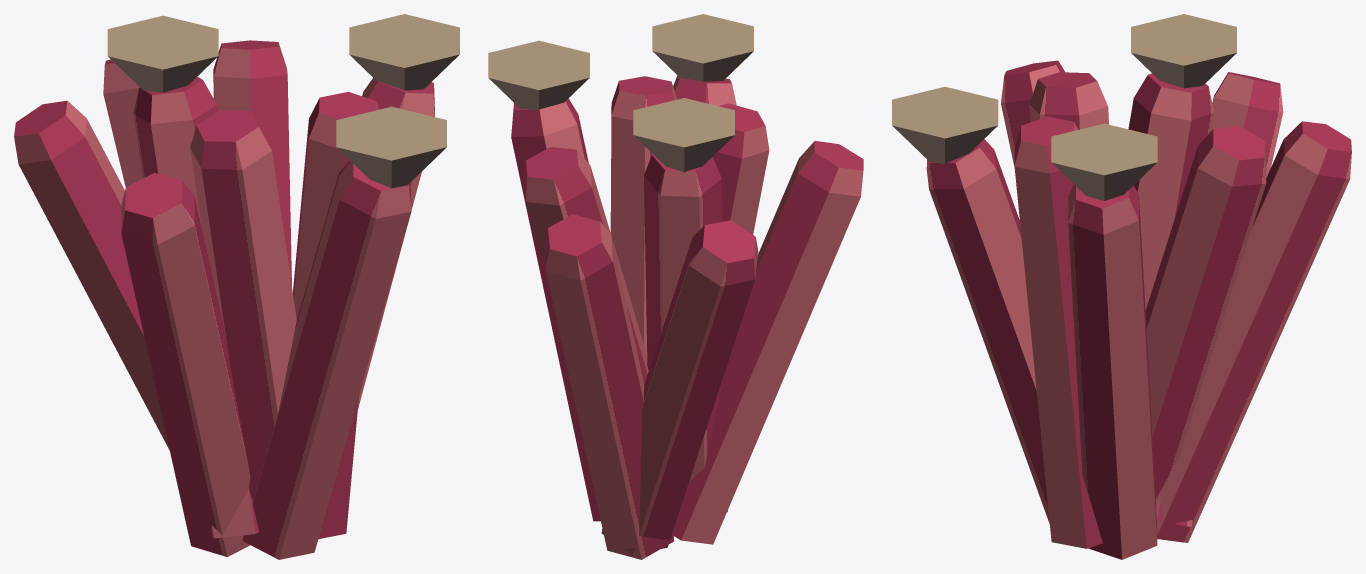
File: pink_cucumber.gltf
3 views of the same model, side by side, from view 1: azimuth 30°, elevation 25°; view 2: azimuth 150°, elevation 25°; view 3: azimuth 270°, elevation 25° (orthographic). The views are drawn at different scales.
Parts seen in each view (by area): view 1: cylinder (×9), cone (×3); view 2: cylinder (×9), cone (×3); view 3: cylinder (×9), cone (×3).
Boxes of the visible parts, x1=… form: cylinder (×9): x1=14, y1=40, x2=434, y2=559; cone (×3): x1=107, y1=14, x2=459, y2=188; cylinder (×9): x1=511, y1=75, x2=863, y2=559; cone (×3): x1=488, y1=14, x2=753, y2=172; cylinder (×9): x1=926, y1=60, x2=1351, y2=559; cone (×3): x1=892, y1=14, x2=1236, y2=200.
Bounding box in the file's own units: 0.7278 × 0.9086 × 0.8121.
1 material, 1 textured.
